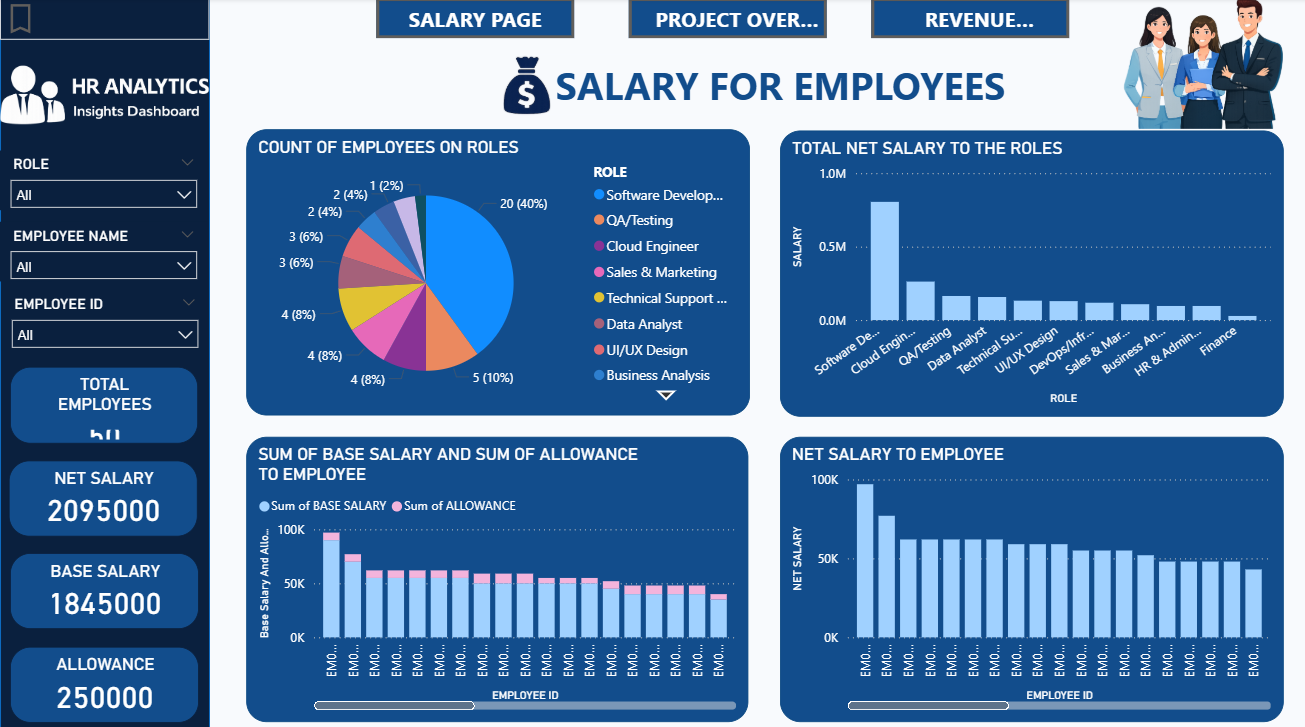

Layout of this report page (visuals, bound fields, positions):
{"tool":"powerbi","page":{"name":"Page 1","canvas":[1280,720],"ordinal":0},"visuals":[{"type":"pieChart","title":"COUNT OF EMPLOYEES  ON ROLES","fields":{"Category":["Sheet1.ROLE"],"Y":["CountNonNull(Sheet1.EMPLOYEE NAME)"]},"box":[38.4,89.2,345.8,279.9],"z":0},{"type":"clusteredColumnChart","title":"TOTAL NET SALARY TO THE ROLES","fields":{"Y":["Sum(Sheet1.NET SALARY)"],"Category":["Sheet1.ROLE"]},"box":[38.4,410.3,345.8,279.9],"z":1000},{"type":"columnChart","title":"SUM OF BASE SALARY ANd SUM OF ALLOWANCE TO EMPLOYEE ","fields":{"Category":["Sheet1.EMPLOYEE ID"],"Y":["Sum(Sheet1.BASE SALARY)","Sum(Sheet1.ALLOWANCE)"]},"box":[454.2,89.2,345.8,279.9],"z":2000},{"type":"clusteredColumnChart","title":"NET SALARY TO EMPLOYEE ","fields":{"Category":["Sheet1.EMPLOYEE ID"],"Y":["Sum(Sheet1.NET SALARY)"]},"box":[882.3,89.2,347.2,279.9],"z":3000},{"type":"tableEx","fields":{"Values":["Sheet1.EMPLOYEE ID","Sheet1.EMPLOYEE NAME","Sheet1.ROLE"]},"box":[454.2,410.3,345.8,279.9],"z":4000},{"type":"slicer","fields":{"Values":["Sheet1.ROLE"]},"box":[882.3,410.3,347.2,281.3],"z":5000},{"type":"textbox","box":[0,0,1280.3,49.4],"z":6000}]}

Visuals, with their boxes on the page's 1280x720 design canvas (x1, y1, x2, y2). These are canvas units, not pixel positions in the 1305x727 screenshot, which may show the page scaled, cropped or inside an application window:
"COUNT OF EMPLOYEES  ON ROLES" pieChart: bbox(38, 89, 384, 369)
"TOTAL NET SALARY TO THE ROLES" clusteredColumnChart: bbox(38, 410, 384, 690)
"SUM OF BASE SALARY ANd SUM OF ALLOWANCE TO EMPLOYEE " columnChart: bbox(454, 89, 800, 369)
"NET SALARY TO EMPLOYEE " clusteredColumnChart: bbox(882, 89, 1230, 369)
tableEx - Sheet1.EMPLOYEE ID x Sheet1.EMPLOYEE NAME: bbox(454, 410, 800, 690)
slicer - Sheet1.ROLE: bbox(882, 410, 1230, 692)
textbox: bbox(0, 0, 1280, 49)
